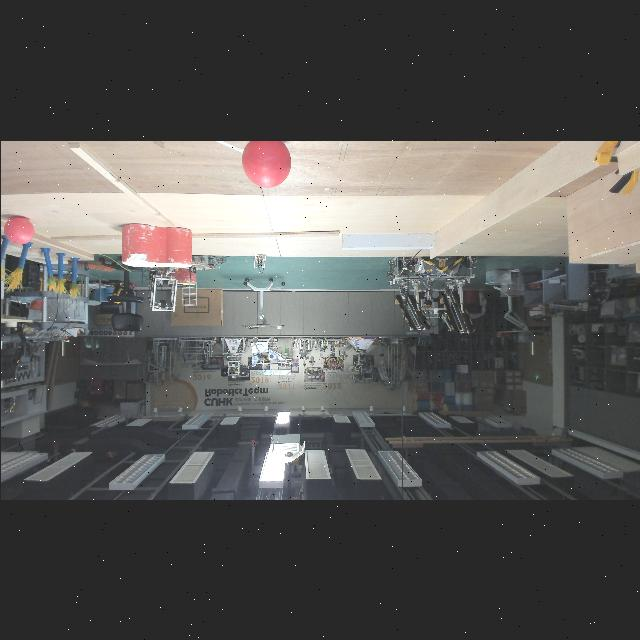R: (240, 140, 292, 188), (1, 215, 36, 245)
S: (180, 280, 196, 306)
